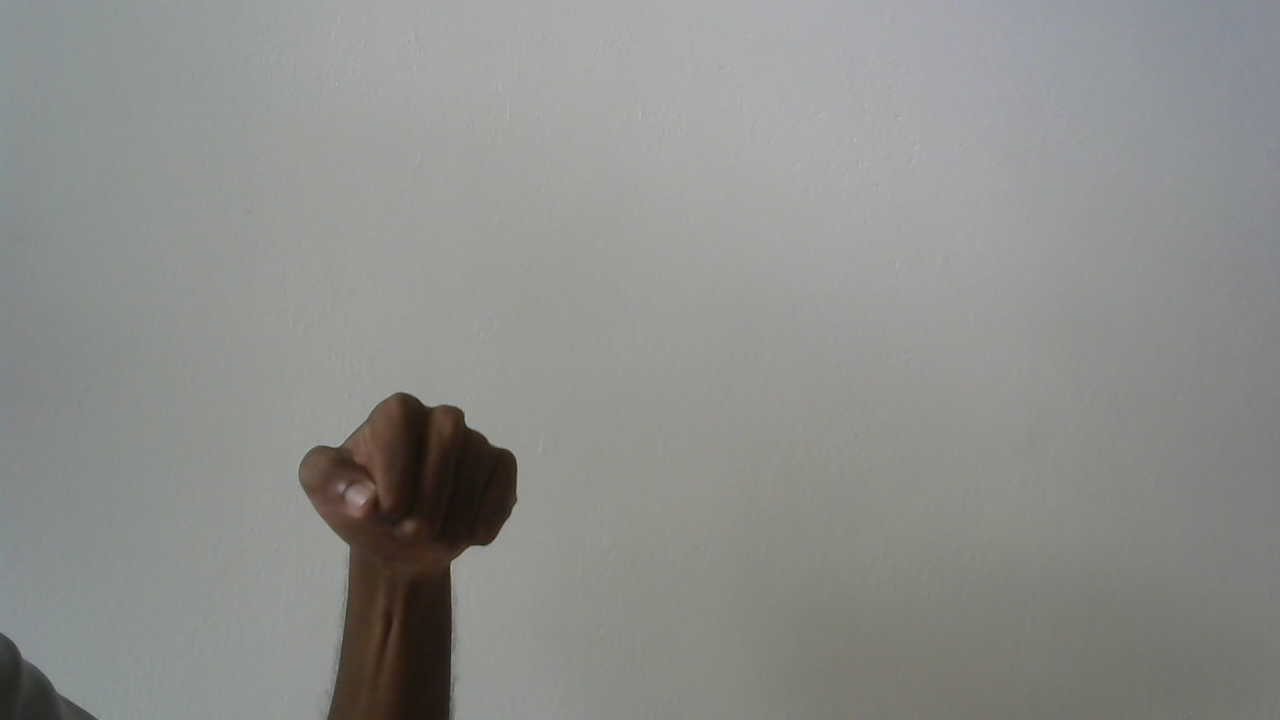yes: (281, 383, 540, 629)
